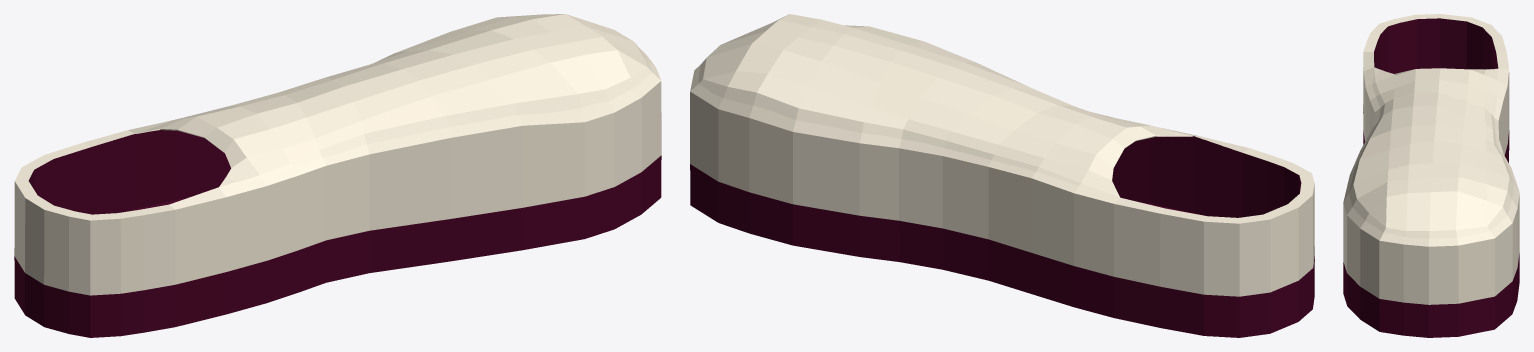
The model's file is shoes.fbx.
3 views of the same model, side by side, from view 1: azimuth 30°, elevation 25°; view 2: azimuth 150°, elevation 25°; view 3: azimuth 270°, elevation 25° (orthographic). The views are drawn at different scales.
Parts seen in each view (by area): view 1: Plane.002; view 2: Plane.002; view 3: Plane.002.
Part boxes in pixels (<box>): Plane.002: <box>14,14,661,337</box>; Plane.002: <box>690,14,1314,337</box>; Plane.002: <box>1343,14,1519,337</box>.
Bounding box in the file's own units: 33.2 × 8.4 × 10.62.
